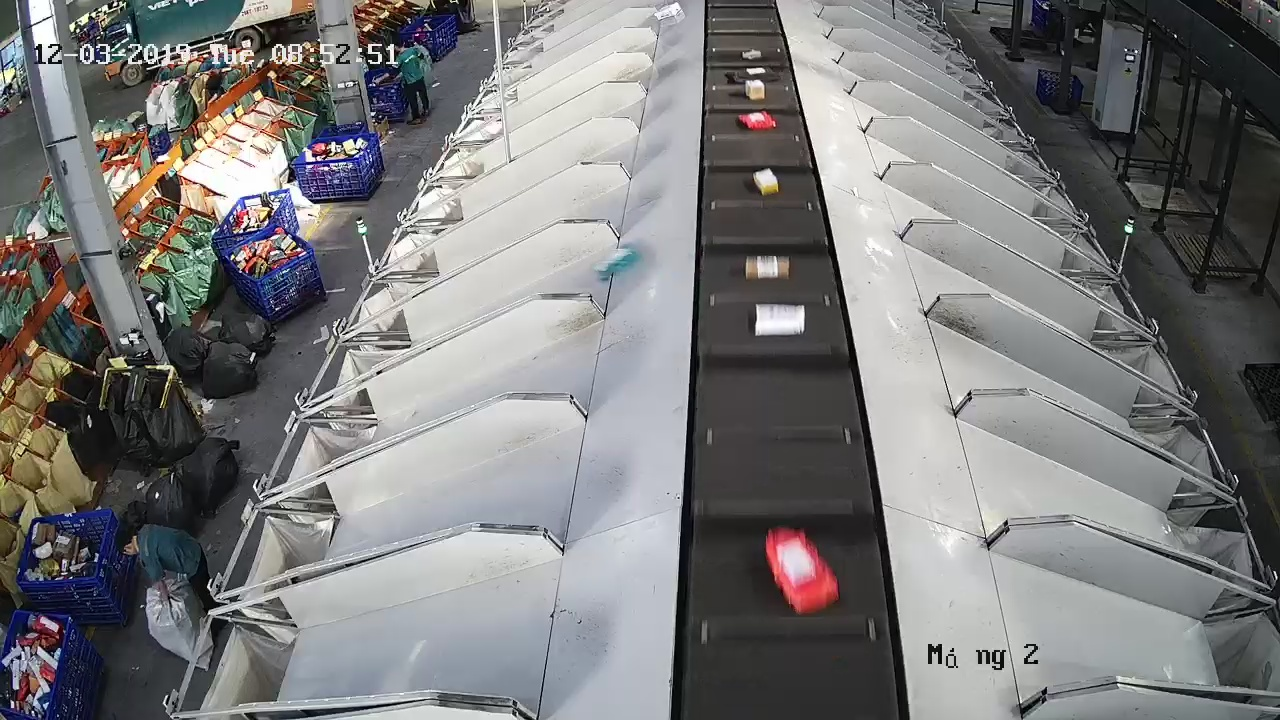parcel: (763, 523, 841, 615), (753, 302, 807, 338), (592, 246, 640, 281), (744, 254, 792, 282), (736, 109, 778, 132), (752, 168, 779, 197)
